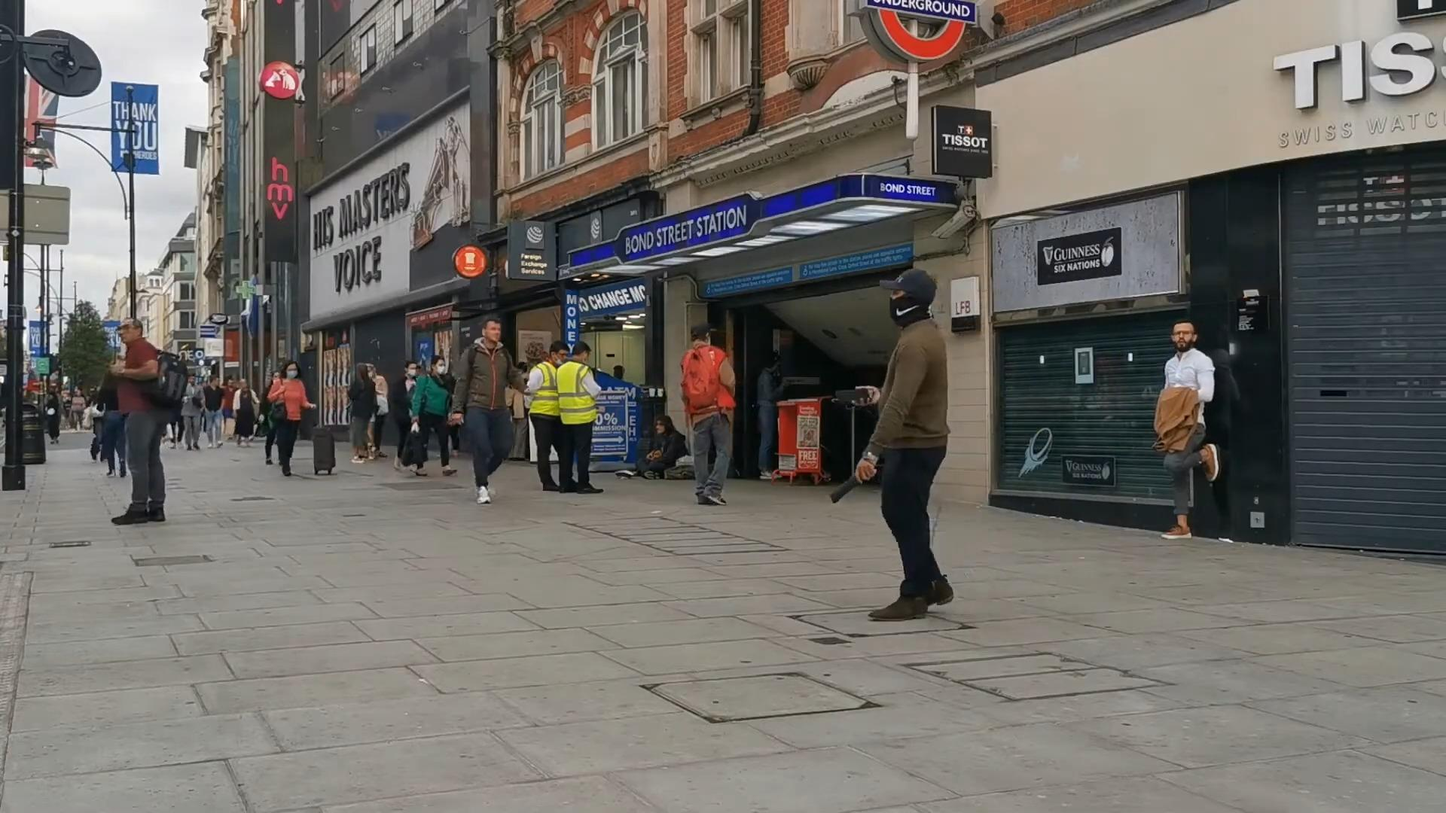no-helmet: (879, 267, 937, 327), (115, 317, 142, 344), (691, 323, 718, 344), (482, 315, 501, 344), (549, 340, 570, 366), (572, 340, 591, 364), (280, 361, 301, 379), (431, 355, 446, 377), (404, 359, 418, 377)
